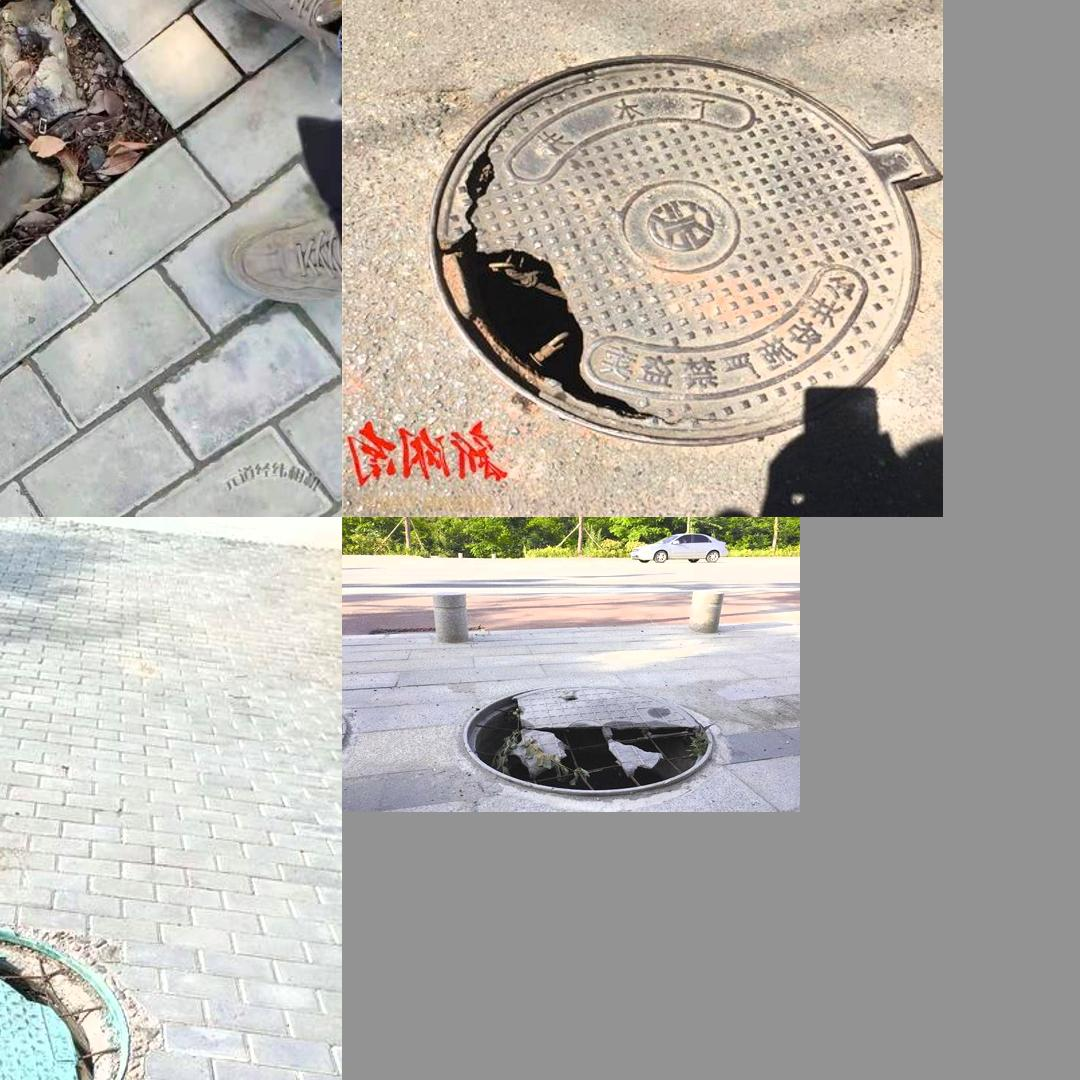broke: (429, 32, 932, 441), (452, 664, 721, 804), (0, 917, 161, 1080), (0, 0, 4, 342)
